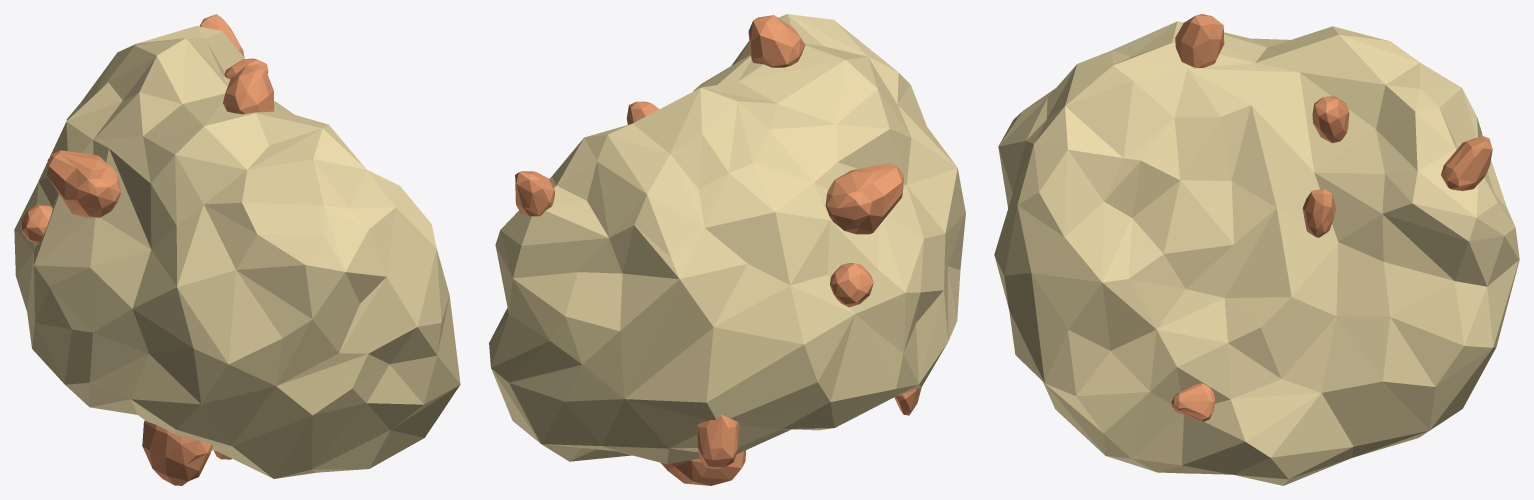
File: StoneOre (39).fbx
3 views of the same model, side by side, from view 1: azimuth 30°, elevation 25°; view 2: azimuth 150°, elevation 25°; view 3: azimuth 270°, elevation 25° (orthographic). The views are drawn at different scales.
Parts seen in each view (by area): view 1: Asteroid326; view 2: Asteroid326; view 3: Asteroid326.
Boxes of the visible parts, x1,y1,x2,y2 form: Asteroid326: [14, 14, 460, 485]; Asteroid326: [489, 14, 965, 485]; Asteroid326: [994, 14, 1519, 485].
Size of the model in its own units: 354 by 402 by 440.
